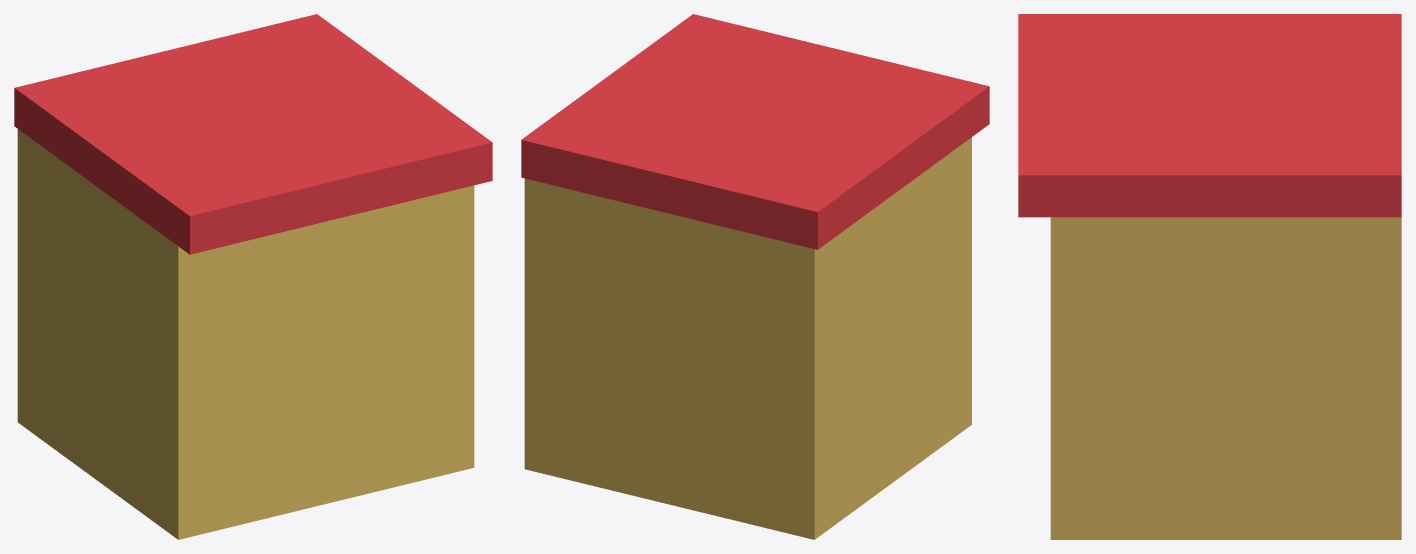
File: Countertop.glb
The picture shows the model from 3 angles, left to right: view 1: azimuth 30°, elevation 25°; view 2: azimuth 150°, elevation 25°; view 3: azimuth 270°, elevation 25°; orthographic projection. The views are drawn at different scales.
Parts seen in each view (by area): view 1: Cube, Cube.001; view 2: Cube, Cube.001; view 3: Cube, Cube.001.
Part boxes in pixels (x1,y1,x2,y2): Cube: (17, 129, 474, 539); Cube.001: (14, 14, 492, 254); Cube: (524, 137, 971, 539); Cube.001: (521, 14, 989, 249); Cube: (1050, 217, 1401, 539); Cube.001: (1018, 14, 1401, 217).
Bounding box in the file's own units: 1.99 × 2.11 × 2.
